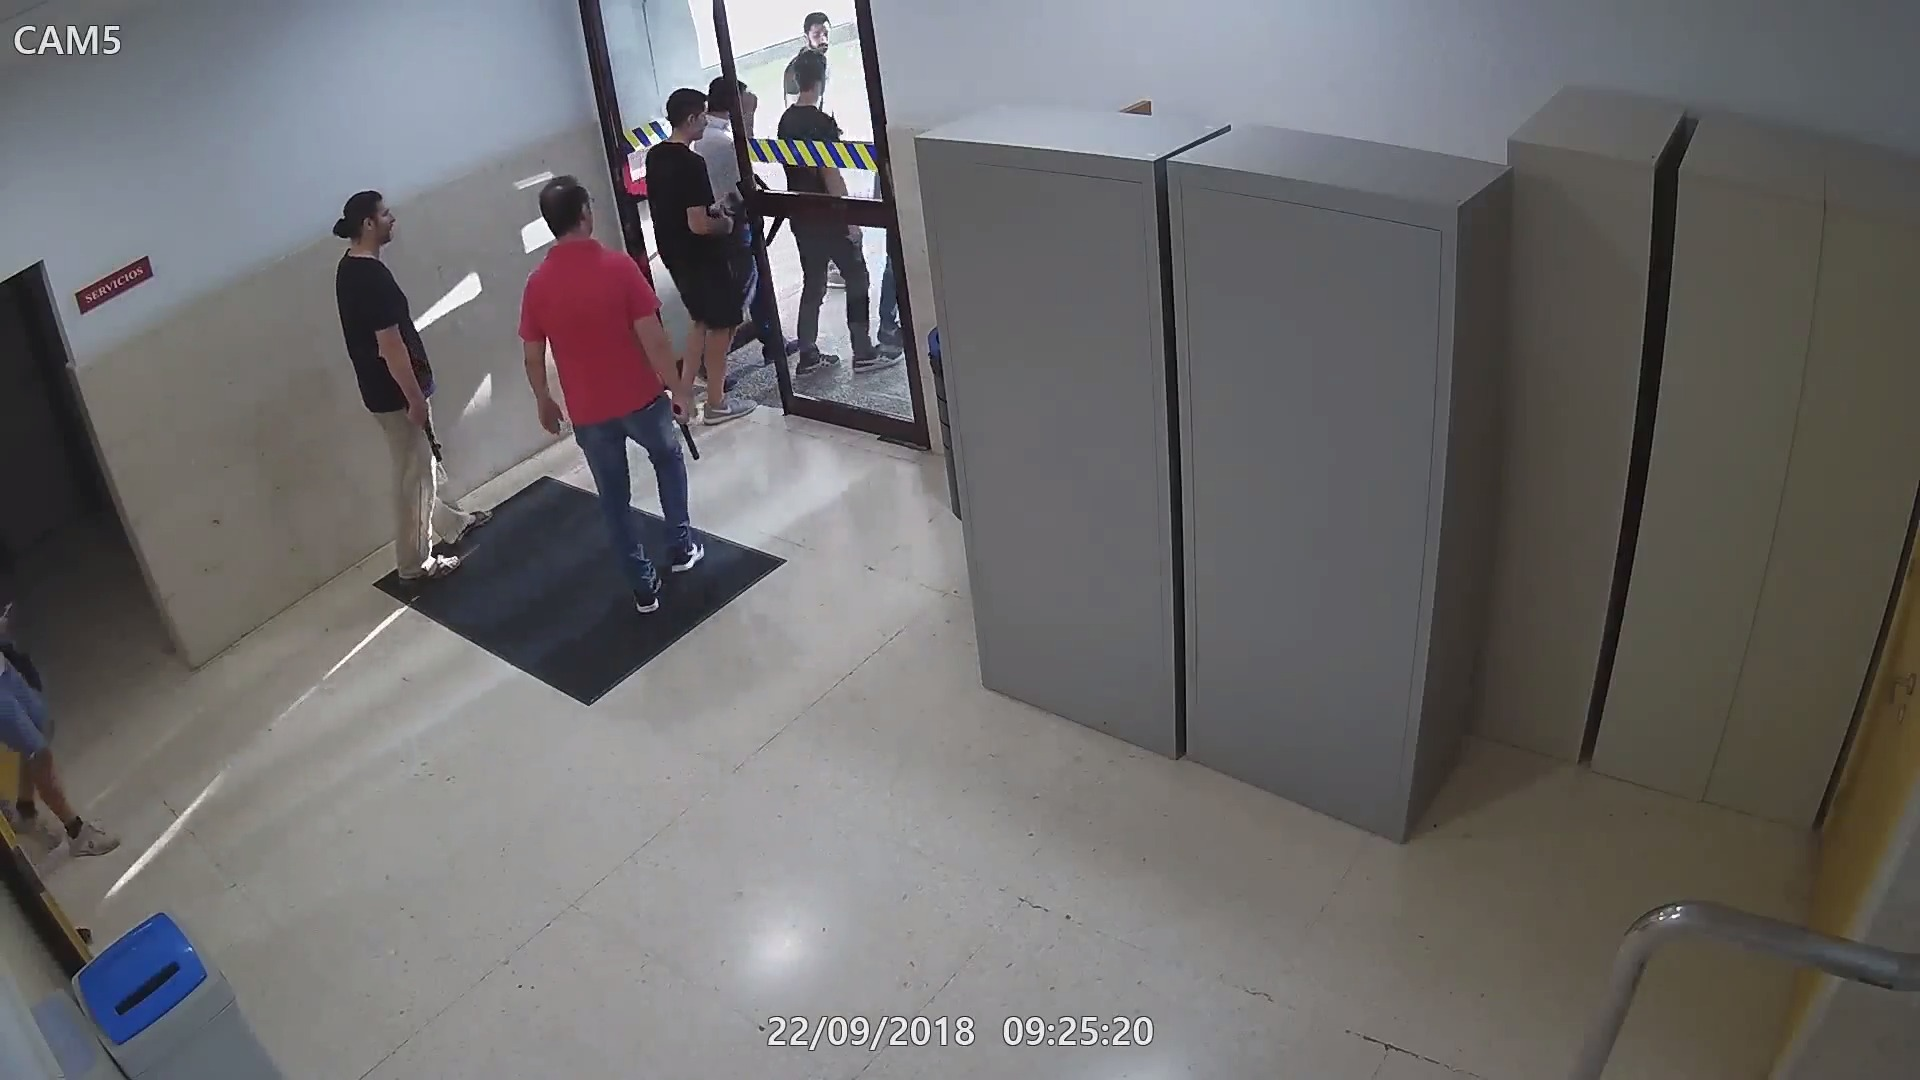Handgun: (665, 378, 698, 465), (713, 194, 744, 228)
Short_rifle: (407, 382, 448, 463)
